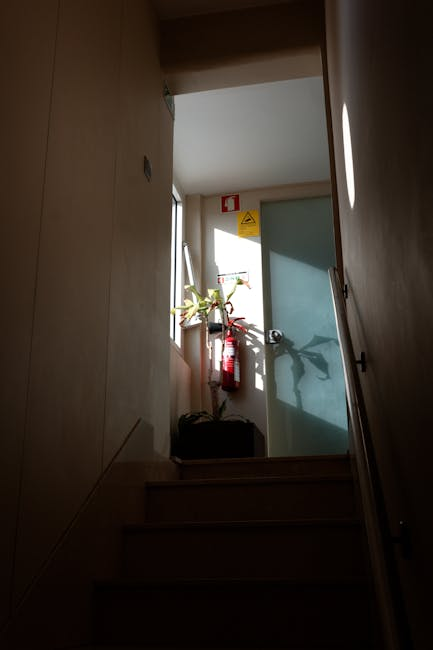fire_extinguisher: (220, 317, 247, 392)
